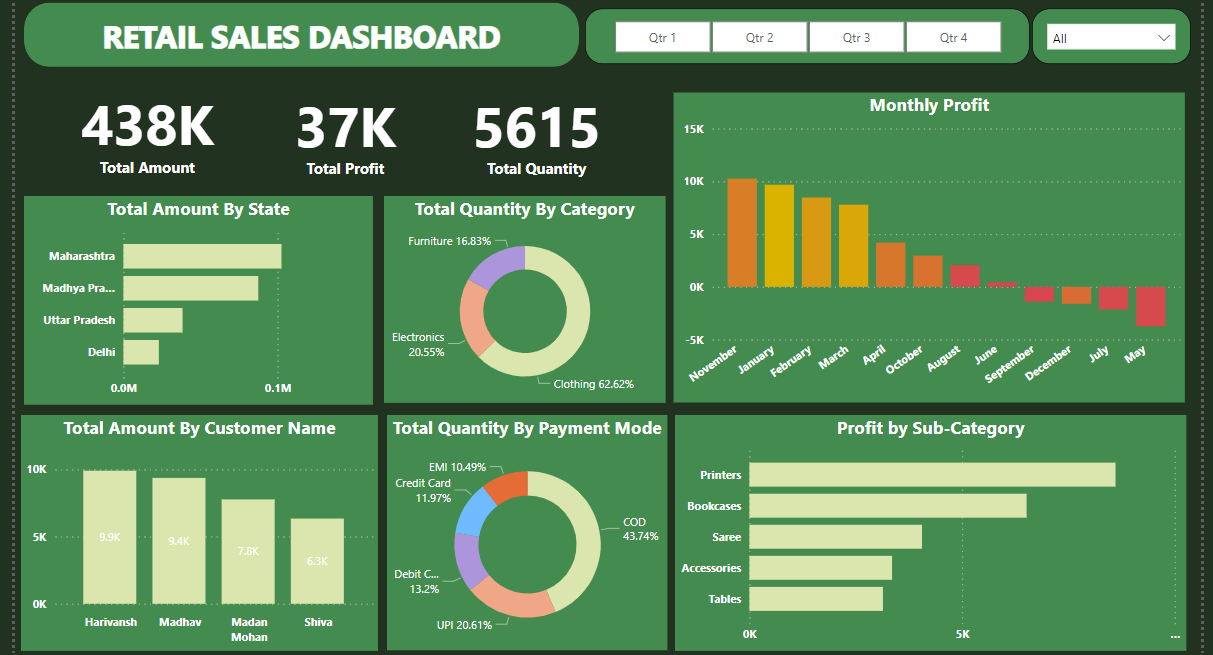

The dashboard page shown, as its layout file describes it:
{"tool":"powerbi","page":{"name":"Retail Sales","canvas":[1280,720],"ordinal":0},"visuals":[{"type":"shape","box":[9.7,8.1,599.1,69.6],"z":0},{"type":"slicer","fields":{"Values":["Orders.Order Date.Variation.Date Hierarchy.Quarter"]},"box":[614.8,14.6,479.8,59.9],"z":1000},{"type":"slicer","fields":{"Values":["Orders.State"]},"box":[1097.8,14.6,171.6,59.9],"z":2000},{"type":"card","fields":{"Values":["Details.Amount"]},"box":[48.9,91.1,187.8,112.2],"z":3000},{"type":"card","fields":{"Values":["Details.Quantity"]},"box":[477.8,91.1,170,114.4],"z":4000},{"type":"card","fields":{"Values":["Details.Profit"]},"box":[261.1,91.1,191.1,114.4],"z":5000},{"type":"clusteredColumnChart","title":"Monthly Profit","fields":{"Category":["Orders.Month Name"],"Y":["Details.Profit"]},"box":[711.1,105.6,552.2,334.4],"z":6000},{"type":"barChart","title":"Total Amount By State","fields":{"Category":["Orders.State"],"Y":["Details.Amount"]},"box":[10,216.7,376.7,225.6],"z":7000},{"type":"donutChart","title":"Total Quantity By Category","fields":{"Category":["Details.Category"],"Y":["Details.Quantity"]},"box":[398.3,217,303.9,223.5],"z":8000},{"type":"clusteredColumnChart","title":"Total Amount By Customer Name","fields":{"Category":["Orders.CustomerName"],"Y":["Details.Amount"]},"box":[6.7,453.3,385.6,254.4],"z":9000},{"type":"donutChart","title":"Total Quantity By Payment Mode","fields":{"Y":["Details.Quantity"],"Category":["Details.PaymentMode"]},"box":[401.6,453.4,302.8,254.2],"z":10000},{"type":"clusteredBarChart","title":"Profit by Sub-Category","fields":{"Y":["Details.Profit"],"Category":["Details.Sub-Category"]},"box":[712.2,453.3,552.2,254.4],"z":11000}]}

Visuals, with their boxes in screenshot pixels (x1, y1, x2, y2):
shape: (left=18, top=0, right=575, bottom=63)
slicer - Orders.Order Date.Variation.Date Hierarchy.Quarter: (left=580, top=4, right=1026, bottom=60)
slicer - Orders.State: (left=1029, top=4, right=1188, bottom=60)
card - Details.Amount: (left=55, top=75, right=229, bottom=179)
card - Details.Quantity: (left=453, top=75, right=611, bottom=181)
card - Details.Profit: (left=252, top=75, right=429, bottom=181)
"Monthly Profit" clusteredColumnChart: (left=670, top=89, right=1182, bottom=399)
"Total Amount By State" barChart: (left=19, top=192, right=369, bottom=401)
"Total Quantity By Category" donutChart: (left=379, top=192, right=661, bottom=400)
"Total Amount By Customer Name" clusteredColumnChart: (left=16, top=411, right=374, bottom=648)
"Total Quantity By Payment Mode" donutChart: (left=382, top=412, right=664, bottom=648)
"Profit by Sub-Category" clusteredBarChart: (left=671, top=411, right=1184, bottom=648)
